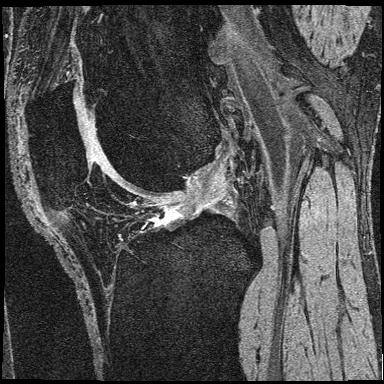SagKneeJointArea: (23, 79, 264, 312)
